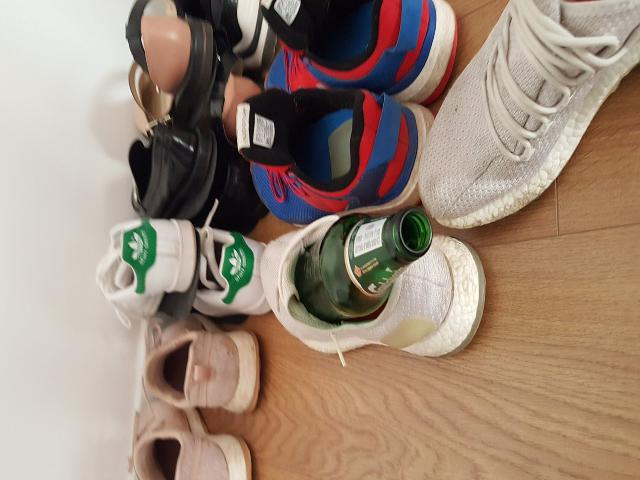beer: (296, 209, 431, 320)
